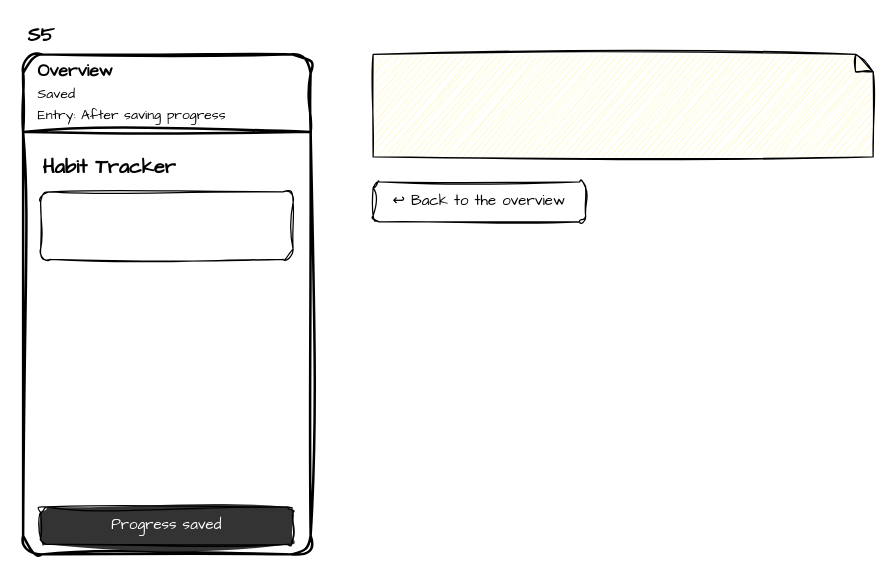
This 895x576 diagram has some shape labels left out. Each missing label, with the centre of its shape:
"Drink water 1.5 / 2 litres · Daily" goes at point (166, 225).
"From S5 you can • nothing: this is an end of the journey" goes at point (622, 105).
